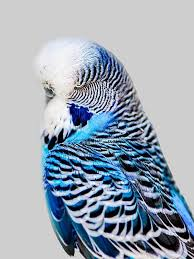budgie: (36, 38, 194, 259)
